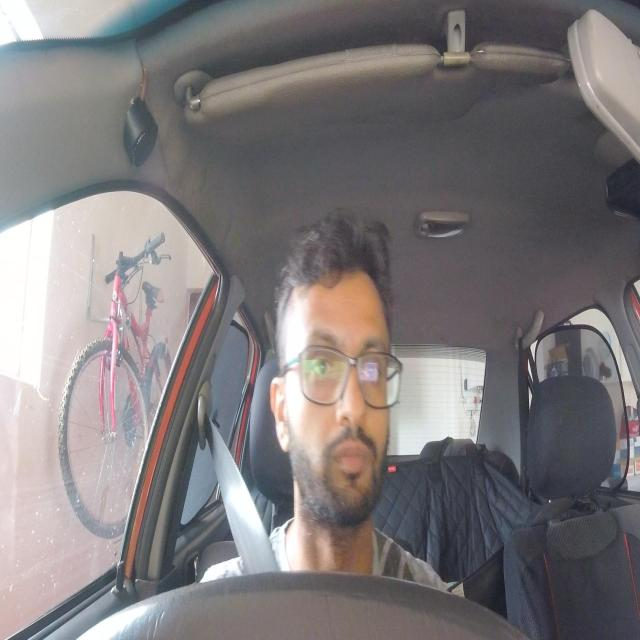open: (297, 328, 340, 398), (354, 336, 390, 394)
